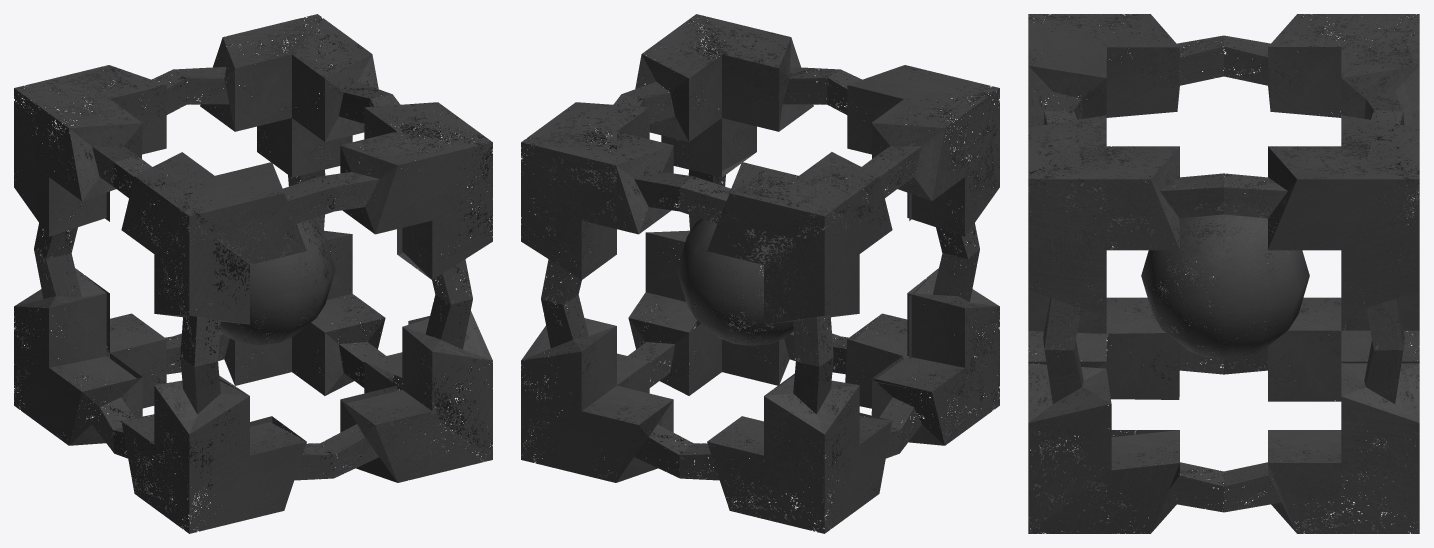
Rendered from metal crate.fbx.
3 views of the same model, side by side, from view 1: azimuth 30°, elevation 25°; view 2: azimuth 150°, elevation 25°; view 3: azimuth 270°, elevation 25° (orthographic). The views are drawn at different scales.
Visible parts, largest first — view 1: Crate; view 2: Crate; view 3: Crate.
Part boxes in pixels (x1=…): Crate: x1=14, y1=14, x2=492, y2=533; Crate: x1=521, y1=14, x2=999, y2=533; Crate: x1=1028, y1=14, x2=1419, y2=533.
Bounding box in the file's own units: 41.11 × 39.49 × 39.37.
